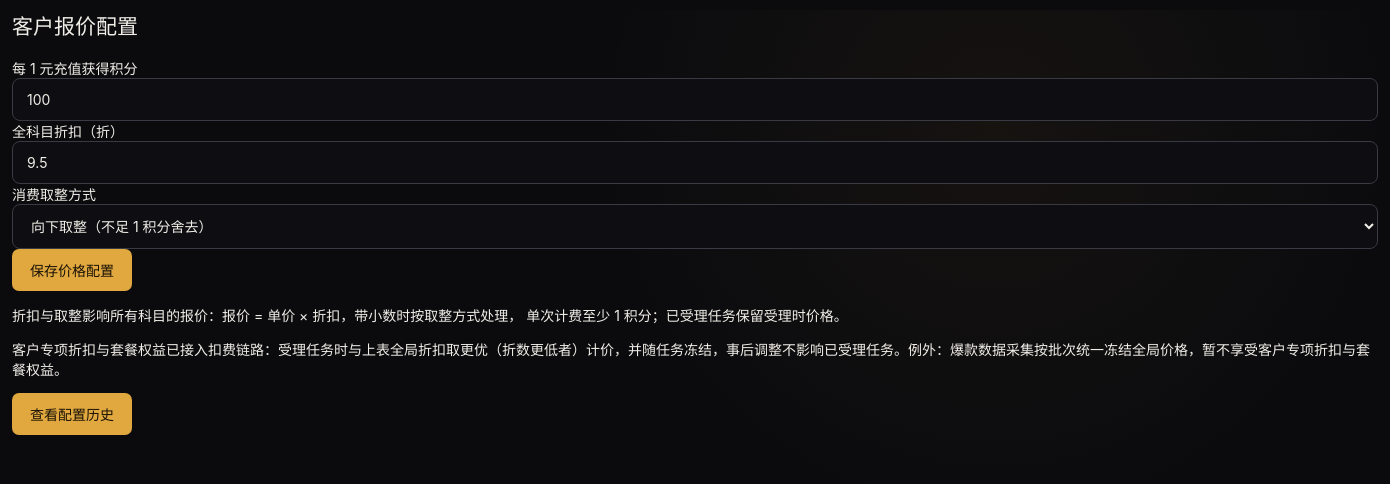
it: configuration history failures surface an alert
Expected: the number field labelled "每 1 元充值获得积分" holds "100", [12,78,1378,121]
Click the button "查看配置历史": (72, 414) [12,393,132,435]
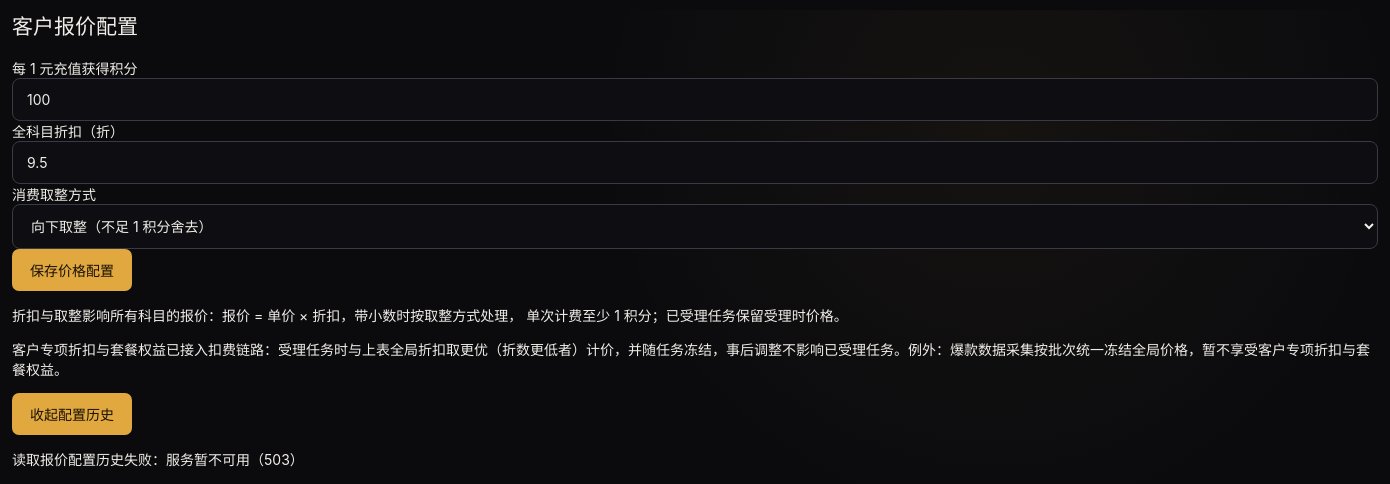
Expected: the text "读取报价配置历史失败：服务暂不可用（503）" is shown, [12,451,304,468]
